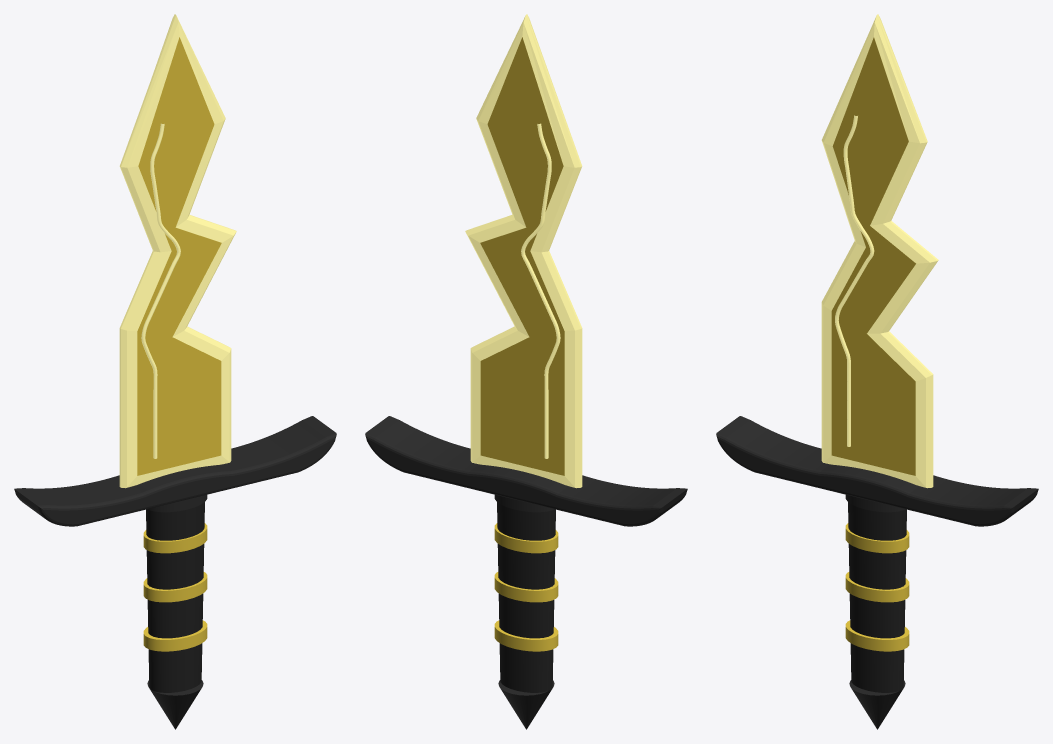
Rendered from 17_Rare_Thunder_Fang.glb.
The picture shows the model from 3 angles, left to right: view 1: azimuth 30°, elevation 25°; view 2: azimuth 150°, elevation 25°; view 3: azimuth 330°, elevation 25°; orthographic projection.
Visible parts, largest first — view 1: blade_1, guard_wing_0, handle_2, blade_inlay_9, pommel_spike_7, handle_band_5, handle_band_4, handle_band_3; view 2: blade_1, guard_wing_0, handle_2, blade_inlay_8, pommel_spike_7, handle_band_5, handle_band_4, handle_band_3; view 3: blade_1, guard_wing_0, handle_2, blade_inlay_9, pommel_spike_7, handle_band_5, handle_band_4, handle_band_3.
Part boxes in pixels (x1,y1,x2,y2): blade_1: (119,14,236,488); guard_wing_0: (14,416,336,526); handle_2: (146,502,204,692); blade_inlay_9: (141,123,180,458); pommel_spike_7: (147,680,203,729); handle_band_5: (143,620,207,651); handle_band_4: (143,572,207,602); handle_band_3: (143,523,207,553); blade_1: (465,14,582,488); guard_wing_0: (365,416,687,526); handle_2: (497,502,555,692); blade_inlay_8: (521,123,560,458); pommel_spike_7: (498,680,554,729); handle_band_5: (494,620,558,651); handle_band_4: (494,572,558,602); handle_band_3: (494,523,558,553); blade_1: (821,14,938,488); guard_wing_0: (716,416,1038,526); handle_2: (848,502,906,692); blade_inlay_9: (835,115,874,446); pommel_spike_7: (849,680,905,729); handle_band_5: (845,620,909,651); handle_band_4: (845,572,909,602); handle_band_3: (845,523,909,553).
Size of the model in its own units: 0.2705 by 0.619 by 0.0441.
Materials: 8 (8 with a texture image).
